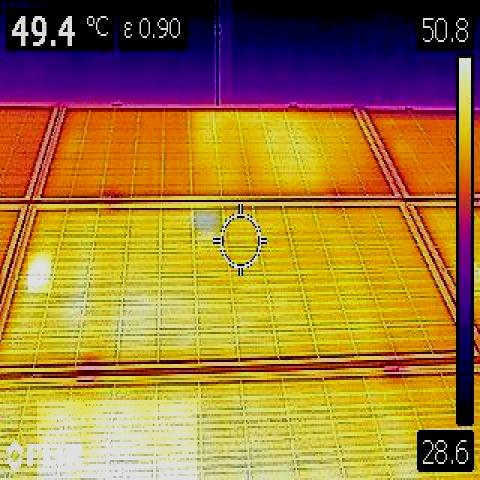fault: (37, 400, 197, 480), (28, 254, 51, 293), (194, 211, 222, 232)
